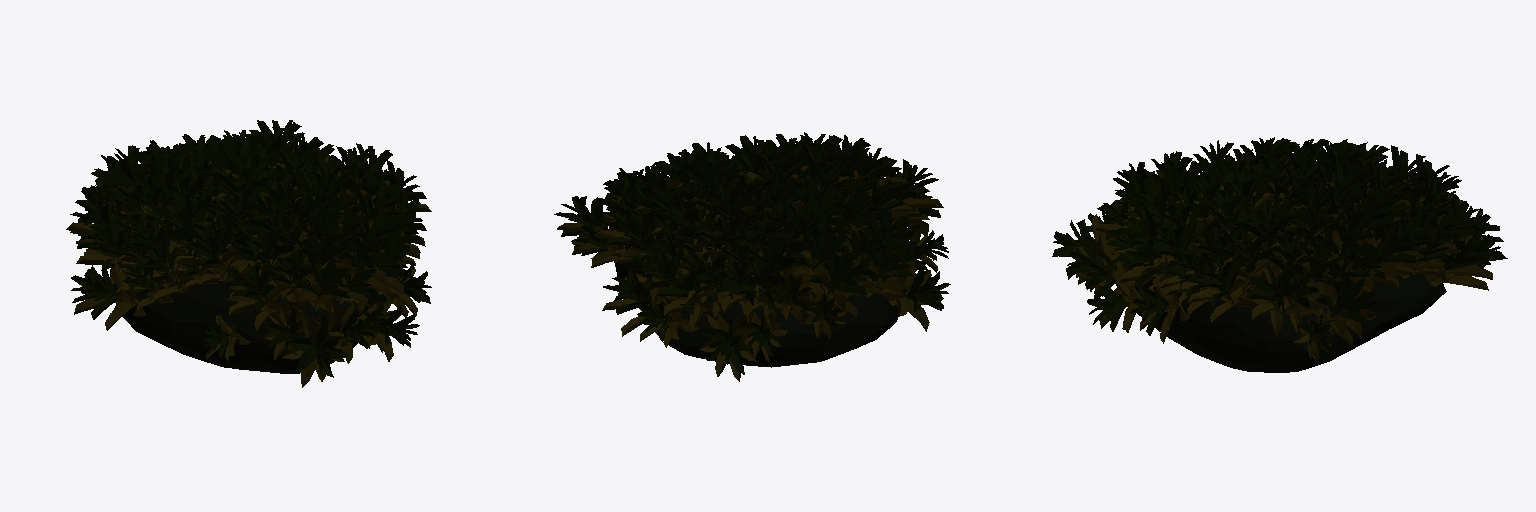
The model's file is mossy_clump.obj.
The picture shows the model from 3 angles: view 1: azimuth 30°, elevation 25°; view 2: azimuth 150°, elevation 25°; view 3: azimuth 270°, elevation 25°; orthographic projection.
Parts seen in each view (by area): view 1: BoulderClone_Icosphere.006; view 2: BoulderClone_Icosphere.006; view 3: BoulderClone_Icosphere.006.
Boxes of the visible parts, x1,y1,x2,y2 form: BoulderClone_Icosphere.006: [66, 120, 431, 387]; BoulderClone_Icosphere.006: [554, 132, 950, 381]; BoulderClone_Icosphere.006: [1052, 137, 1507, 372].
Size of the model in its own units: 3.09 by 1.47 by 3.39.